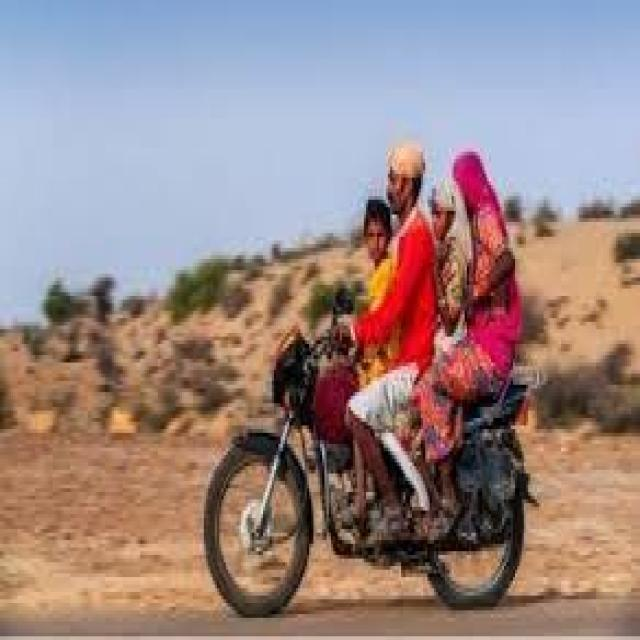motorcycle: (198, 327, 550, 622)
person: (448, 144, 534, 433), (380, 138, 456, 426), (346, 188, 404, 422), (424, 181, 476, 396)
rider_region: (205, 137, 550, 614)
